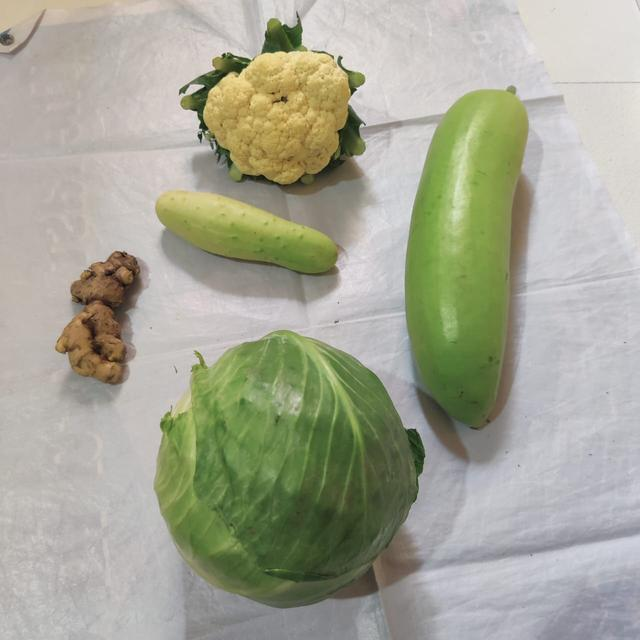Organik: (142, 323, 439, 603), (404, 76, 550, 441), (165, 13, 392, 191), (145, 173, 359, 283), (53, 236, 155, 397)
